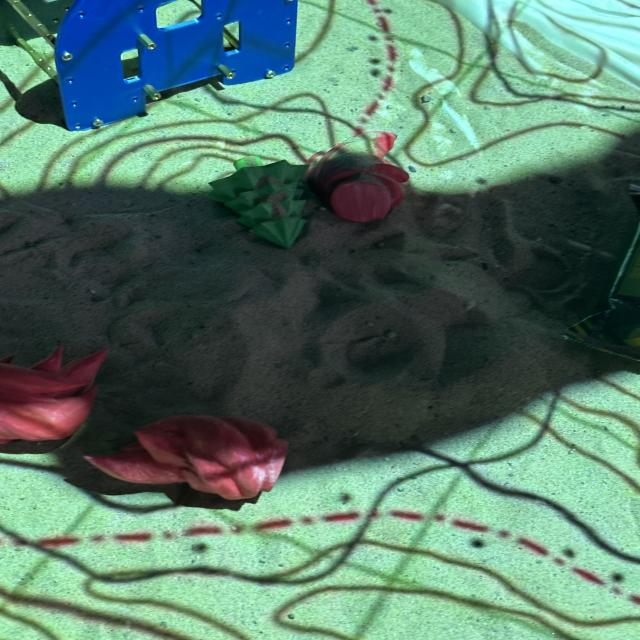fire: (84, 413, 288, 500), (0, 346, 109, 446), (309, 131, 411, 218)
tree: (208, 156, 309, 248)
